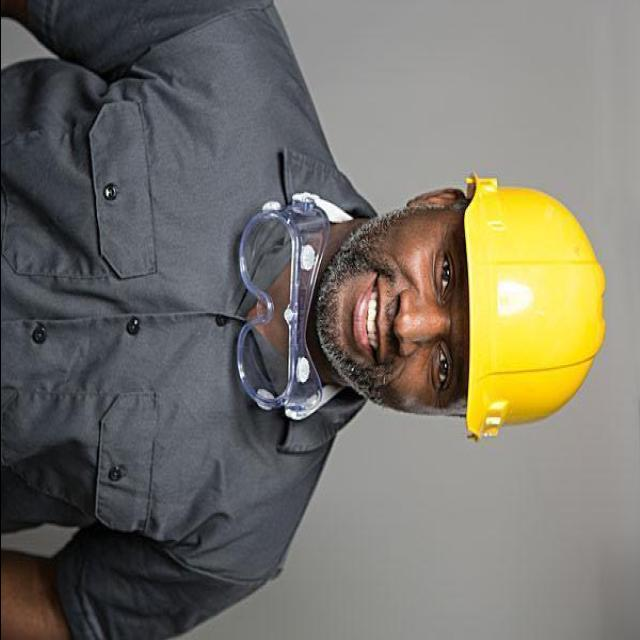helmet: (451, 143, 613, 451)
